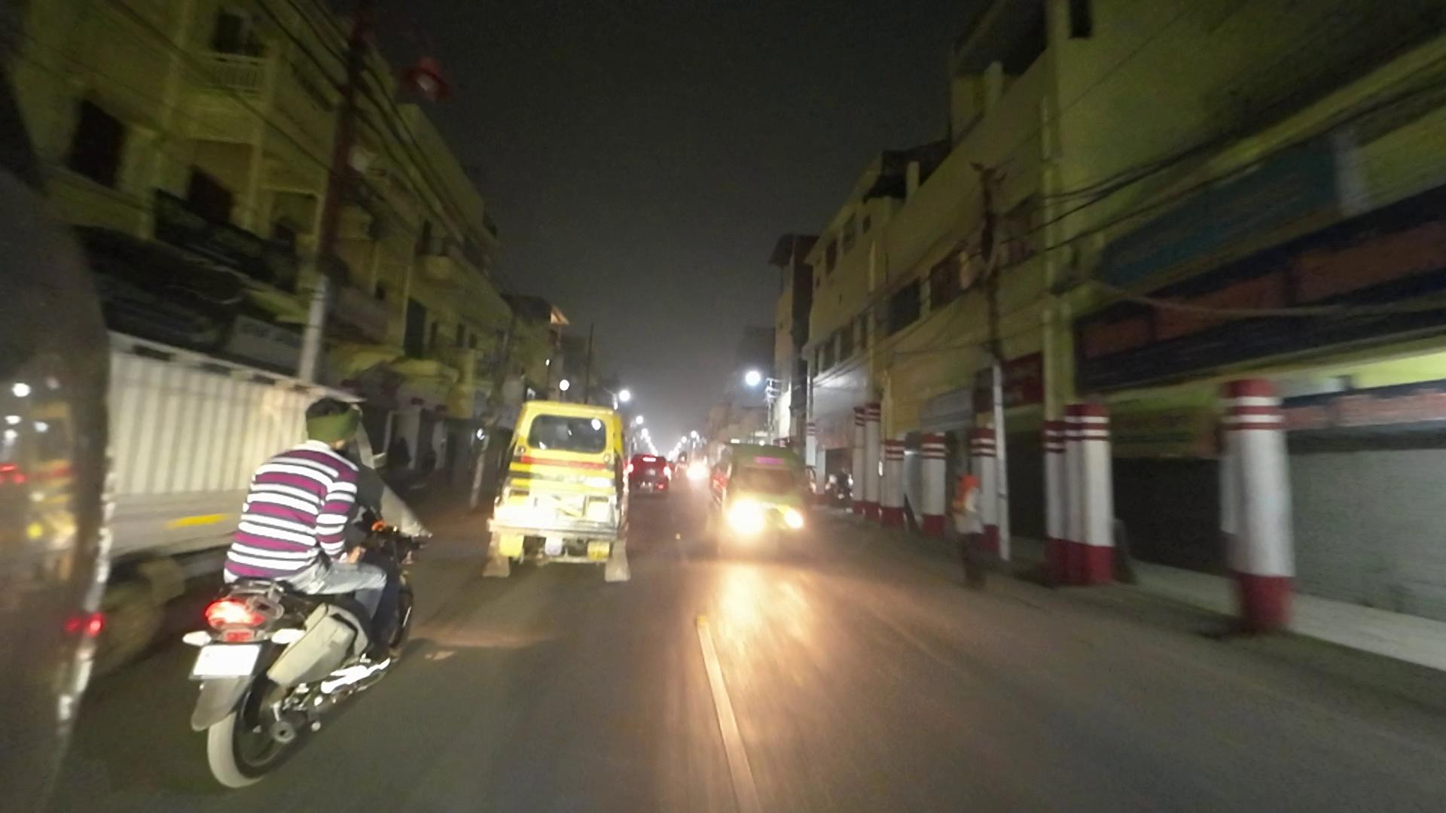streetlight: (396, 55, 452, 106)
